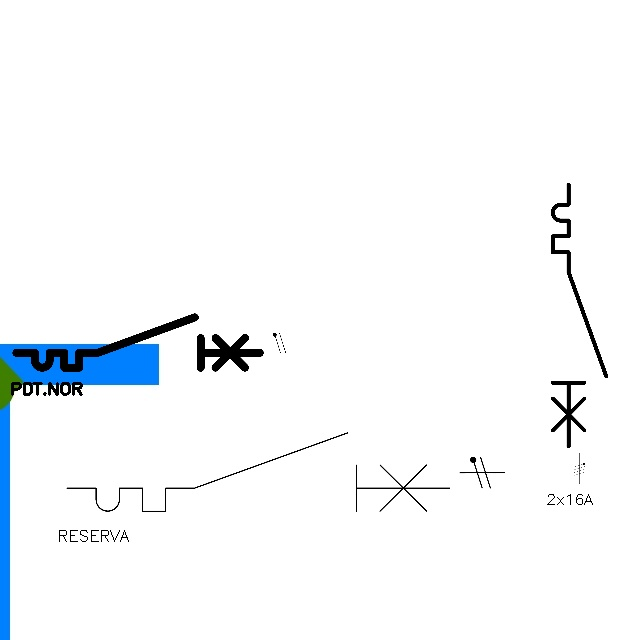interruptor_termomagnetico: (57, 423, 459, 521), (546, 178, 613, 453), (10, 311, 266, 374)
